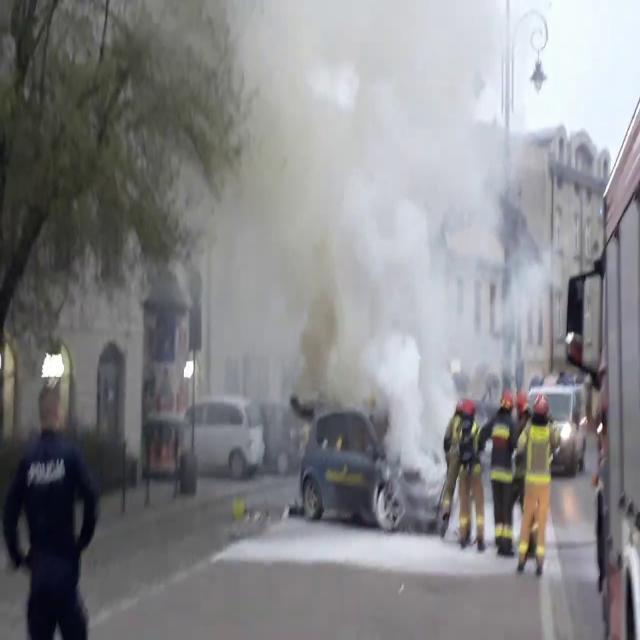Smoke: (179, 0, 549, 438)
